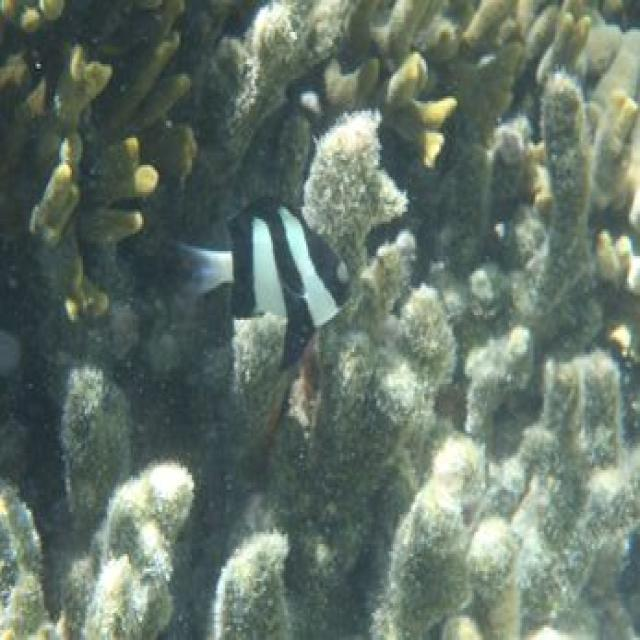ThreeStripedDamselfish: (194, 199, 352, 367)
